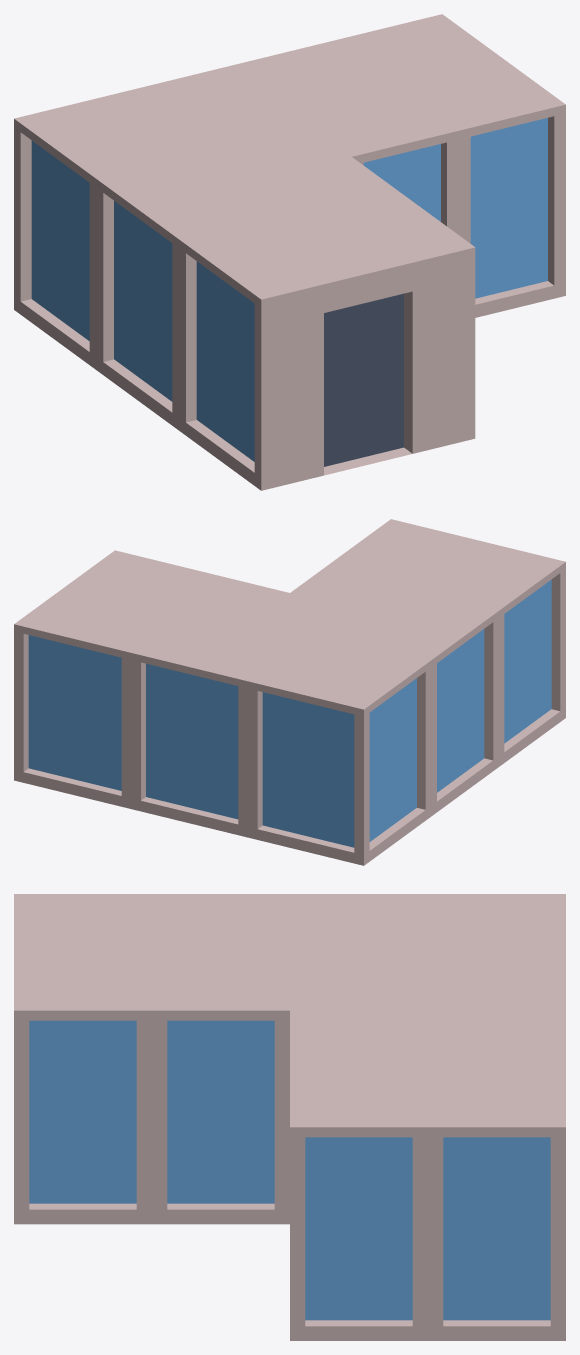
The model's file is building_L_2_g.glb.
3 views of the same model, one above another, from view 1: azimuth 30°, elevation 25°; view 2: azimuth 150°, elevation 25°; view 3: azimuth 270°, elevation 25° (orthographic). The views are drawn at different scales.
Visible parts, largest first — view 1: Cube; view 2: Cube; view 3: Cube.
Boxes of the visible parts, left/top/right/bottom form: Cube: left=14, top=14, right=565, bottom=490; Cube: left=14, top=519, right=565, bottom=865; Cube: left=14, top=894, right=565, bottom=1340.
Bounding box in the file's own units: 3.75 × 1.6 × 3.75.
